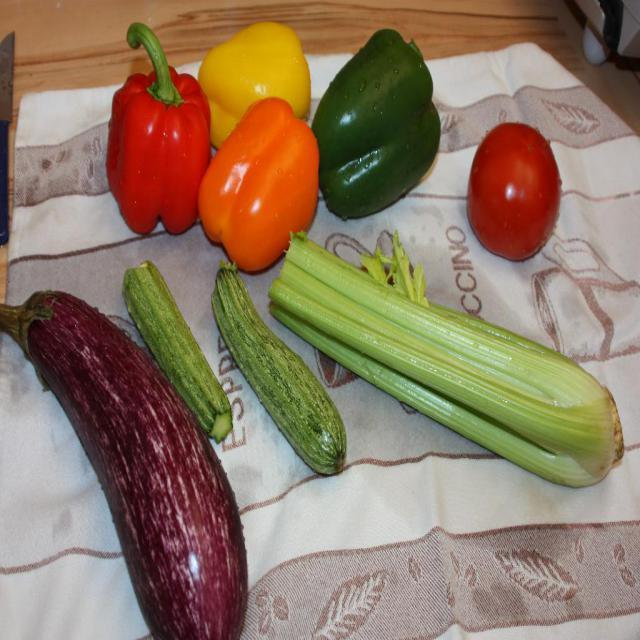Zucchini: (206, 256, 350, 474), (123, 256, 235, 444)
